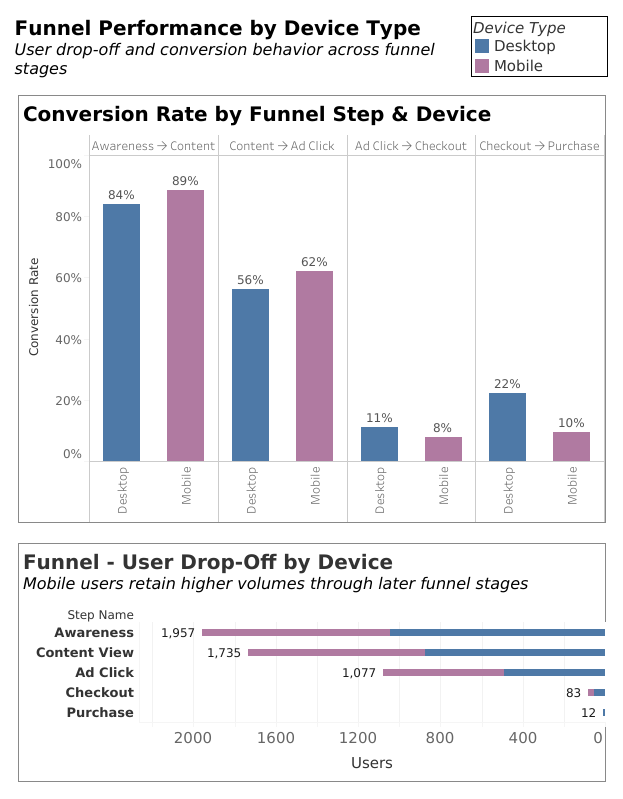

This screenshot's page, from the dashboard's own definition file:
{"tool":"tableau","page":{"name":"Dashboard 1","canvas":[1000,1000],"units":"permille","ordinal":0},"visuals":[{"type":"text","box":[11.4,10,730.5,96.2]},{"type":"legend","title":"Conversion Rate","param":"[federated.1s2xby905wcl8b1a48jq00w6s4wf].[none:device_type:nk]","box":[742,10,246.6,96.2]},{"type":"worksheet","title":"Conversion Rate","mark":"Bar","cols":["device_type"],"box":[11.4,106.2,977.1,560]},{"type":"worksheet","title":"Funnel - User Counts by Device","mark":"Bar","rows":["step_name"],"cols":["users"],"box":[11.4,666.2,977.1,323.8]}]}

Visuals, with their boxes on the dashboard's canvas, which has no fixed pixel size, in thousandths of its width and height (x1, y1, x2, y2). These are canvas units, not pixel positions in the 623x799 screenshot, which may show the page scaled, cropped or inside an application window:
text: crop(11, 10, 742, 106)
"Conversion Rate" legend: crop(742, 10, 989, 106)
"Conversion Rate" worksheet (Bar marks): crop(11, 106, 988, 666)
"Funnel - User Counts by Device" worksheet (Bar marks): crop(11, 666, 988, 990)
